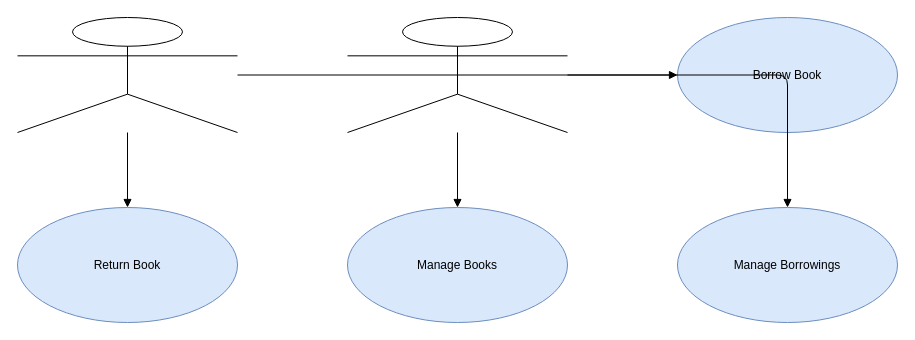
Image size: 915x340. Some labels were removed from this diagram. Each missing label, with the centre of its shape:
"Librarian" goes at point (457, 74).
"Student" goes at point (127, 74).
